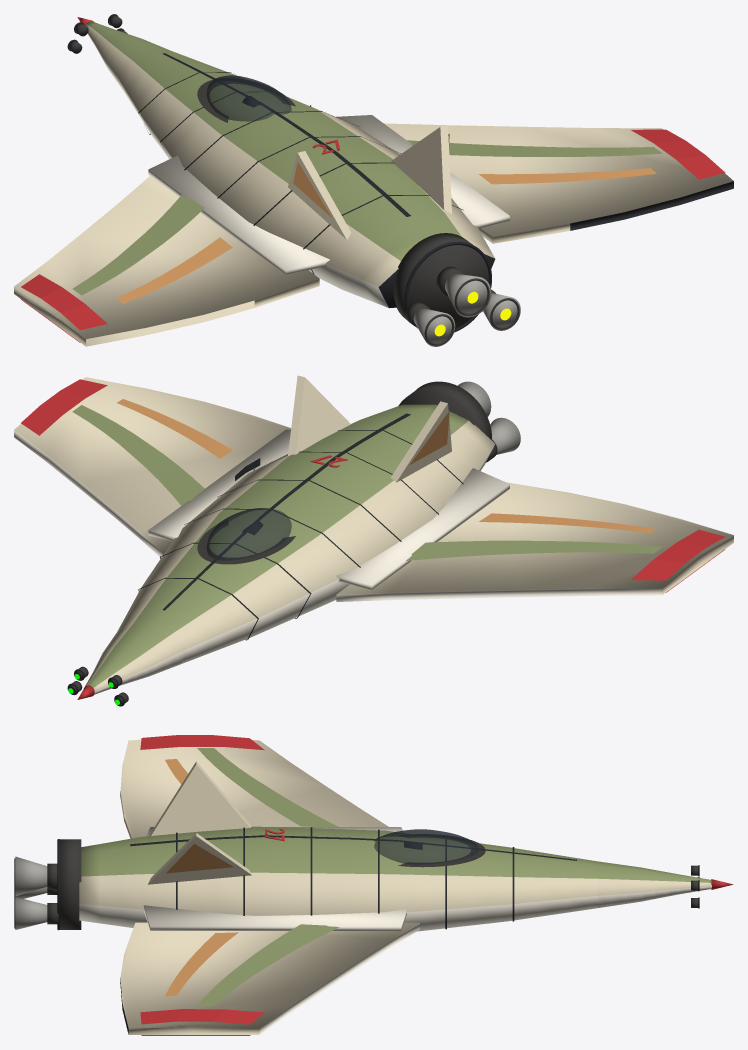
The model's file is Ship_DeltaWing_108179.glb.
The picture shows the model from 3 angles, top to bottom: view 1: azimuth 30°, elevation 25°; view 2: azimuth 150°, elevation 25°; view 3: azimuth 270°, elevation 25°; orthographic projection. The views are drawn at different scales.
Parts seen in each view (by area): view 1: Fuselage_MainWedgeBody, Wing_Left_DeltaAerofoil, Wing_Right_DeltaAerofoil, WingRoot_Left_BlendedShoulder, EngineBlock_AftIntegratedHousing, CanopyGlass_LowInsetDome, TailFin_Right_CantedStabilizer, PaintWingChevron_Left_PrimarySweep, WingRoot_Right_BlendedShoulder, PaintWingChevron_Right_PrimarySweep, Nose_ForwardNeedle, WingTipTrim_Left_HardCutPanel_Top (+11 smaller); view 2: Fuselage_MainWedgeBody, Wing_Left_DeltaAerofoil, Wing_Right_DeltaAerofoil, WingRoot_Left_BlendedShoulder, Nose_ForwardNeedle, CanopyGlass_LowInsetDome, PaintWingChevron_Left_PrimarySweep, PaintWingChevron_Right_PrimarySweep, WingRoot_Right_BlendedShoulder, TailFin_Right_CantedStabilizer, EngineBlock_AftIntegratedHousing, WingTipTrim_Left_HardCutPanel_Top (+8 smaller); view 3: Fuselage_MainWedgeBody, Wing_Right_DeltaAerofoil, Wing_Left_DeltaAerofoil, WingRoot_Right_BlendedShoulder, TailFin_Left_CantedStabilizer, Nose_ForwardNeedle, CanopyGlass_LowInsetDome, PaintWingChevron_Right_PrimarySweep, PaintWingChevron_Left_PrimarySweep, EngineBlock_AftIntegratedHousing, TailFin_Right_CantedStabilizer, WingTipTrim_Right_HardCutPanel_Top (+7 smaller).
Boxes of the visible parts, <box> form: Fuselage_MainWedgeBody: <box>117,50,495,308</box>; Wing_Left_DeltaAerofoil: <box>14,176,319,346</box>; Wing_Right_DeltaAerofoil: <box>384,123,733,243</box>; WingRoot_Left_BlendedShoulder: <box>148,155,329,275</box>; EngineBlock_AftIntegratedHousing: <box>393,233,488,328</box>; CanopyGlass_LowInsetDome: <box>206,75,291,121</box>; TailFin_Right_CantedStabilizer: <box>391,125,451,214</box>; PaintWingChevron_Left_PrimarySweep: <box>72,195,204,295</box>; WingRoot_Right_BlendedShoulder: <box>336,115,509,228</box>; PaintWingChevron_Right_PrimarySweep: <box>407,140,662,156</box>; Nose_ForwardNeedle: <box>85,21,170,89</box>; WingTipTrim_Left_HardCutPanel_Top: <box>21,274,107,330</box>; Fuselage_MainWedgeBody: <box>117,404,494,663</box>; Wing_Left_DeltaAerofoil: <box>336,482,733,601</box>; Wing_Right_DeltaAerofoil: <box>14,377,291,557</box>; WingRoot_Left_BlendedShoulder: <box>335,468,509,589</box>; Nose_ForwardNeedle: <box>83,624,186,694</box>; CanopyGlass_LowInsetDome: <box>206,508,291,560</box>; PaintWingChevron_Left_PrimarySweep: <box>406,540,662,560</box>; PaintWingChevron_Right_PrimarySweep: <box>72,405,204,505</box>; WingRoot_Right_BlendedShoulder: <box>148,429,290,541</box>; TailFin_Right_CantedStabilizer: <box>288,375,350,456</box>; EngineBlock_AftIntegratedHousing: <box>398,382,491,439</box>; WingTipTrim_Left_HardCutPanel_Top: <box>631,529,725,580</box>; Fuselage_MainWedgeBody: <box>79,826,597,931</box>; Wing_Right_DeltaAerofoil: <box>120,922,419,1034</box>; Wing_Left_DeltaAerofoil: <box>120,739,388,838</box>; WingRoot_Right_BlendedShoulder: <box>143,905,407,930</box>; TailFin_Left_CantedStabilizer: <box>149,761,251,836</box>; Nose_ForwardNeedle: <box>597,861,711,907</box>; CanopyGlass_LowInsetDome: <box>374,829,478,864</box>; PaintWingChevron_Right_PrimarySweep: <box>197,924,339,1005</box>; PaintWingChevron_Left_PrimarySweep: <box>197,748,338,827</box>; EngineBlock_AftIntegratedHousing: <box>59,839,81,929</box>; TailFin_Right_CantedStabilizer: <box>148,833,251,884</box>; WingTipTrim_Right_HardCutPanel_Top: <box>140,1009,264,1024</box>.
Bounding box in the file's own units: 6.86 × 1.46 × 7.26.
